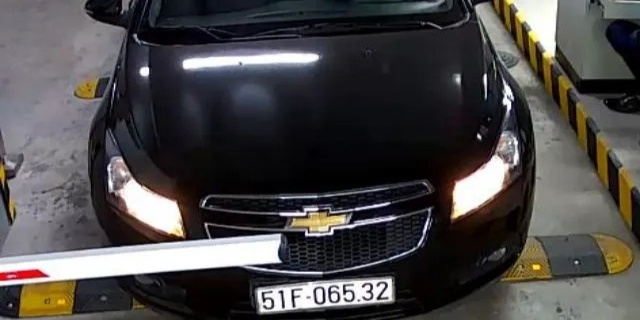bien_so: (258, 280, 392, 308)
